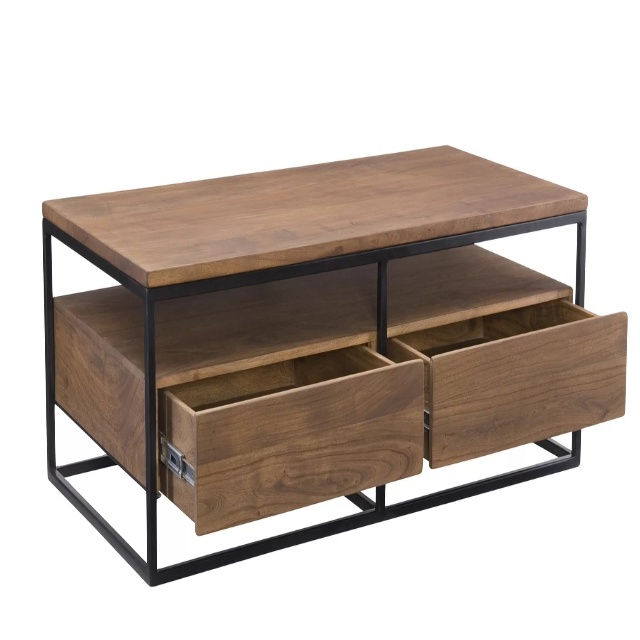obstacle: (43, 147, 626, 584)
